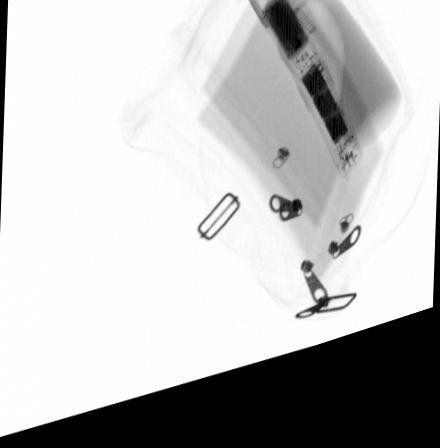Baton: (239, 0, 377, 205)
